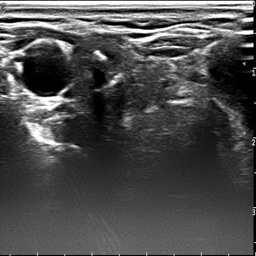mass: (71, 35, 178, 130)
